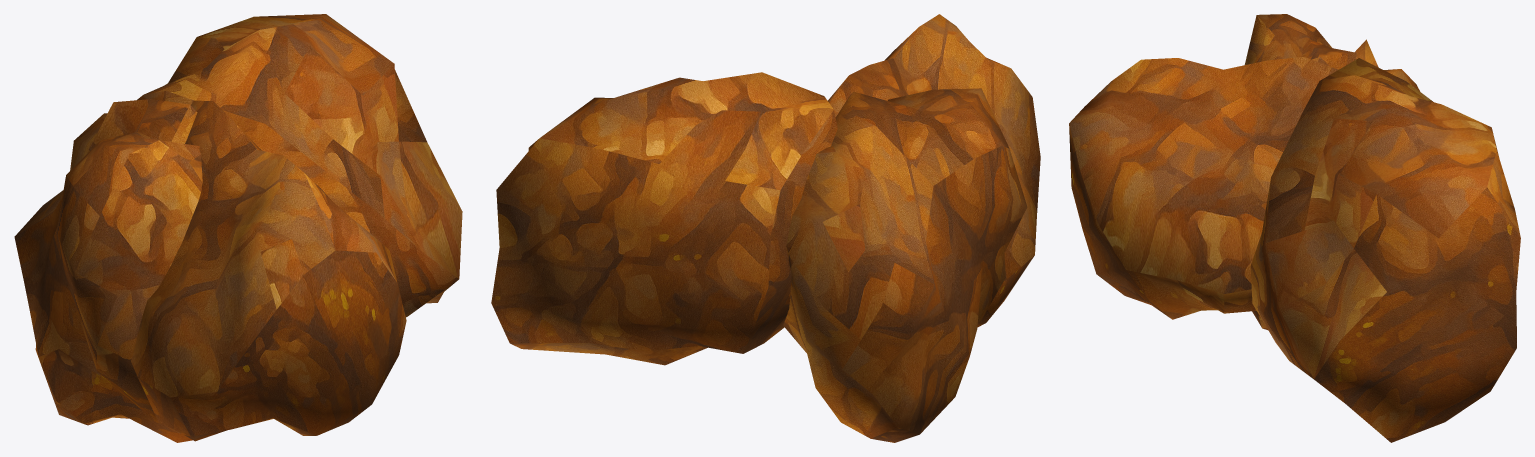
Rendered from RockCornerA.fbx.
3 renders of one model, left to right at view 1: azimuth 30°, elevation 25°; view 2: azimuth 150°, elevation 25°; view 3: azimuth 270°, elevation 25°, orthographic. The views are drawn at different scales.
Visible parts, largest first — view 1: SoneComboCornderOuter; view 2: SoneComboCornderOuter; view 3: SoneComboCornderOuter.
Boxes of the visible parts, box(x1,y1,x2,y2) form: SoneComboCornderOuter: box(14, 14, 462, 442); SoneComboCornderOuter: box(491, 14, 1040, 442); SoneComboCornderOuter: box(1069, 14, 1520, 442).
Bounding box in the file's own units: 12.76 × 9.56 × 12.89.
